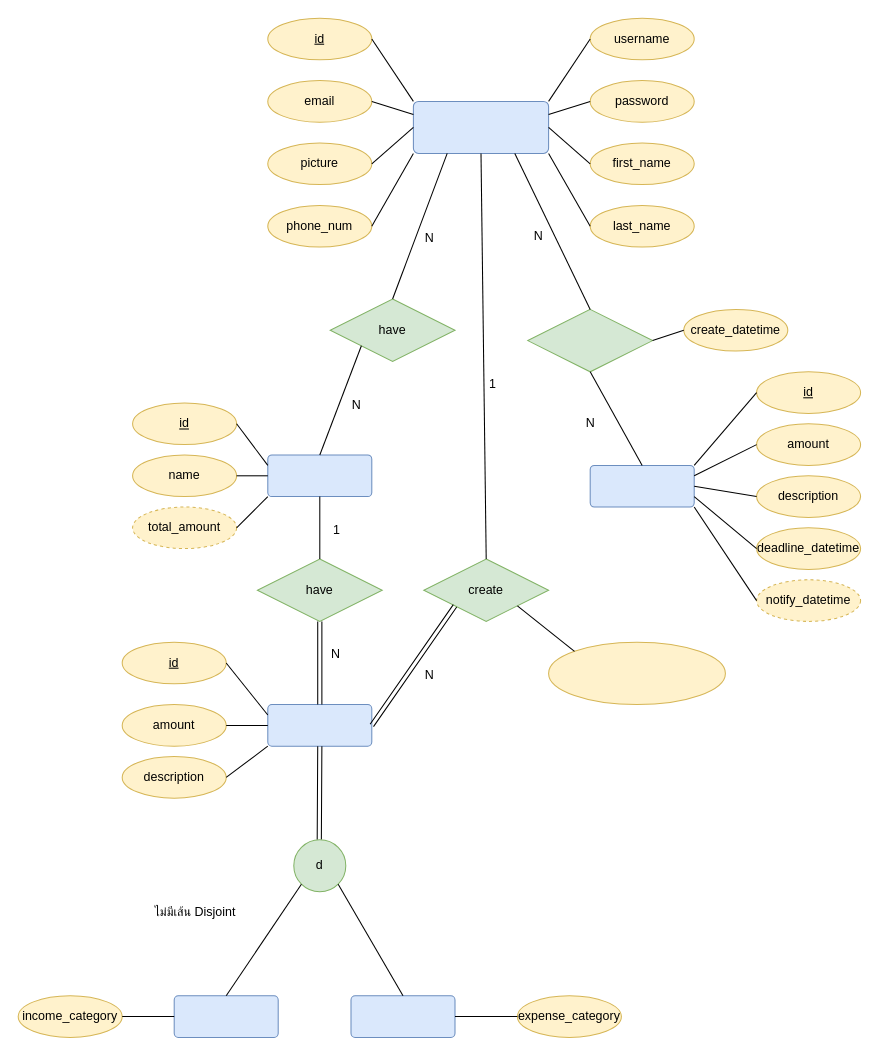
The diagram is 879 pixels wide and 1056 high, and some of its shapes have lost their labels. Here are the shapes that lost their labels. From the top down, the box of each, then its label:
(412, 100, 549, 153): USER
(527, 308, 653, 372): create/have
(267, 454, 372, 497): WALLET
(589, 464, 694, 507): DEBT
(548, 641, 725, 705): transaction_create_date
(267, 704, 372, 746): TRANSACTION
(173, 995, 278, 1037): INCOME
(350, 995, 455, 1037): EXPENSE
